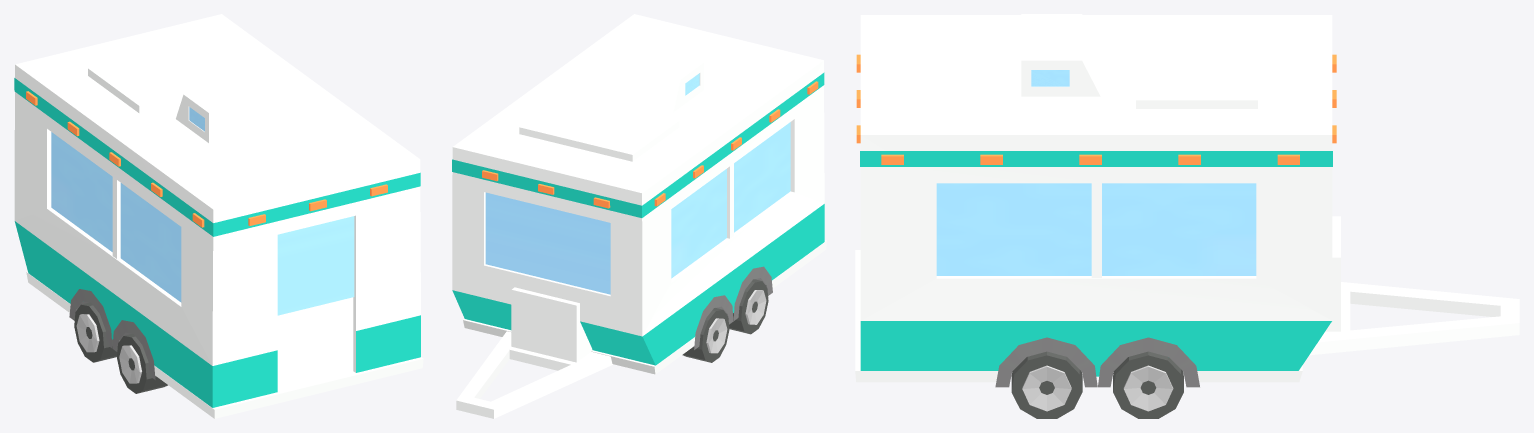
Rendered from transport_old.002.glb.
3 renders of one model, left to right at view 1: azimuth 30°, elevation 25°; view 2: azimuth 150°, elevation 25°; view 3: azimuth 270°, elevation 25°, orthographic. The views are drawn at different scales.
Visible parts, largest first — view 1: transport_old.002(Clone); view 2: transport_old.002(Clone); view 3: transport_old.002(Clone).
Boxes of the visible parts, <box> form: transport_old.002(Clone): <box>14,14,423,418</box>; transport_old.002(Clone): <box>452,14,826,418</box>; transport_old.002(Clone): <box>855,14,1519,418</box>.
Size of the model in its own units: 1.57 by 1.85 by 3.49.
Materials: 1 (1 with a texture image).
